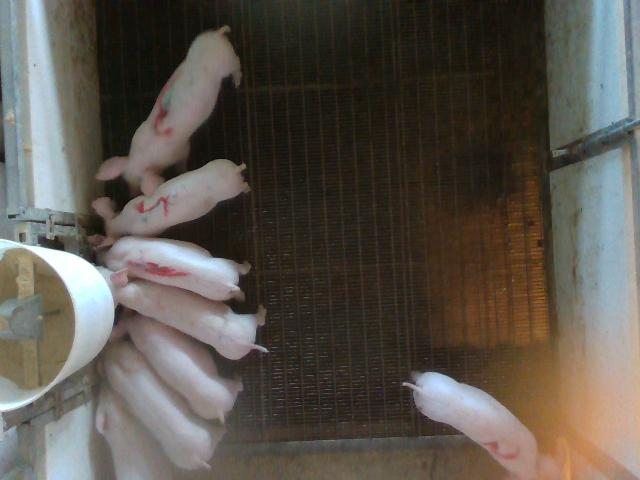pig-1: (104, 236, 250, 301)
pig-2: (402, 371, 561, 478)
pig-3: (97, 26, 241, 196)
pig-5: (90, 159, 249, 248)
